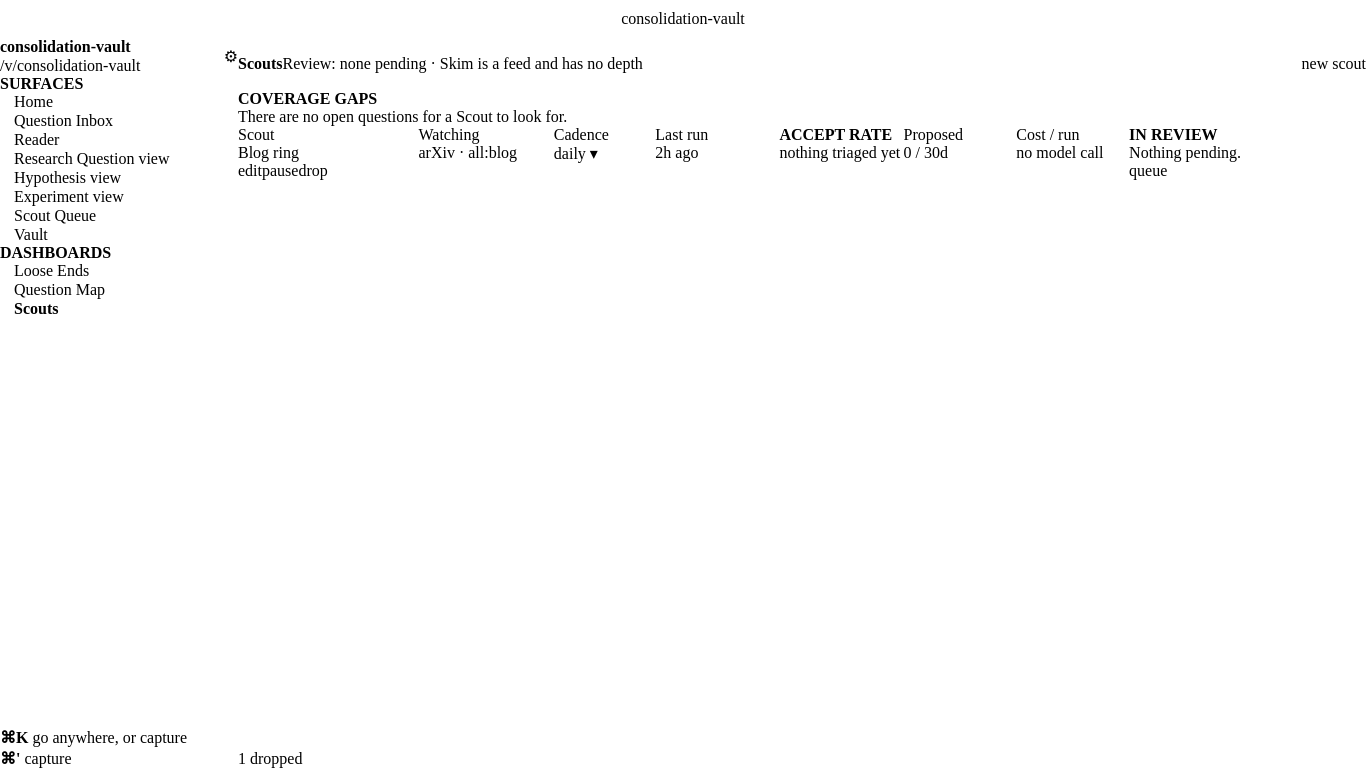
it: Scouts screen — erase › asks first, says the brief is lost, and asks the core nothing until it is confirmed
Expected: the table named "Scouts" is shown, [238,126,1365,180]
Click the button "1 dropped". click: {"x": 270, "y": 759}
box: [238,750,302,767]
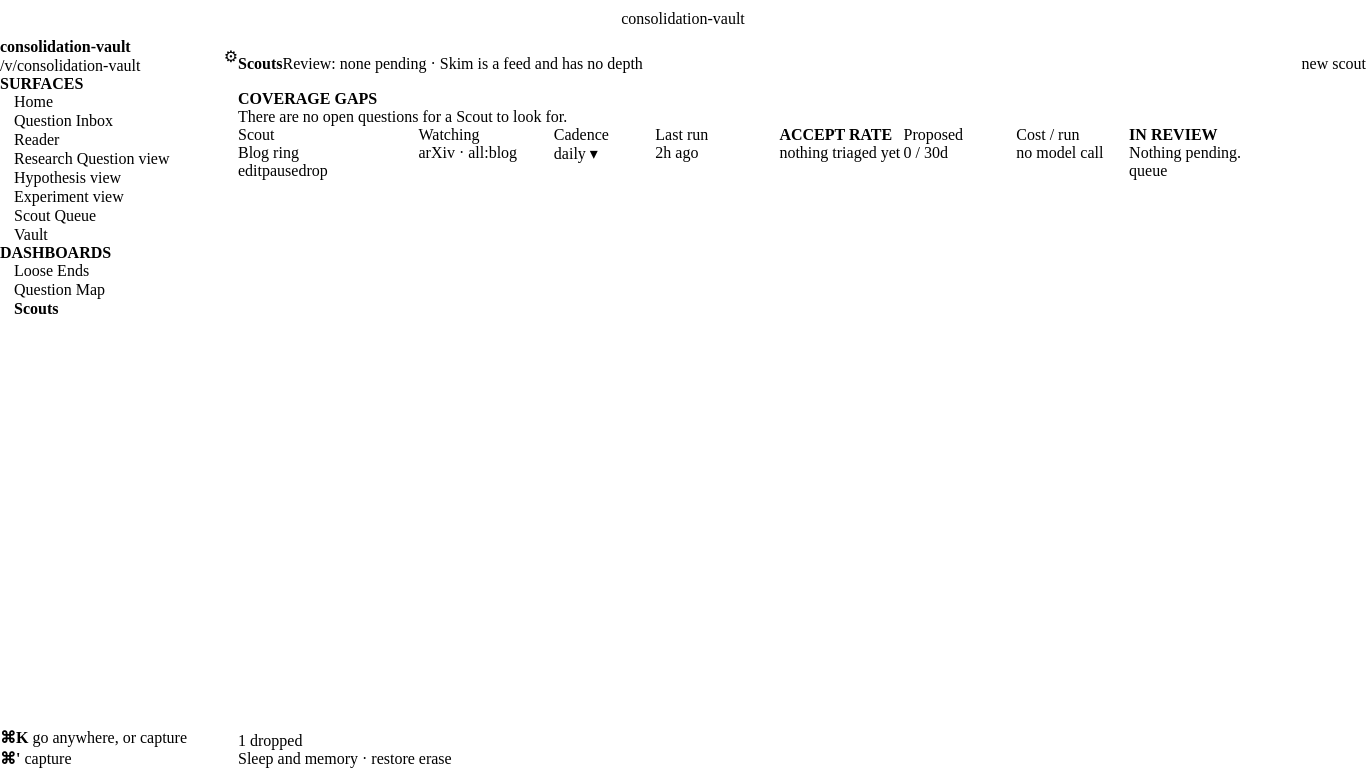
Click the button with aria-label "Sleep and memory: erase". click: {"x": 435, "y": 759}
box: [419,750,452,767]
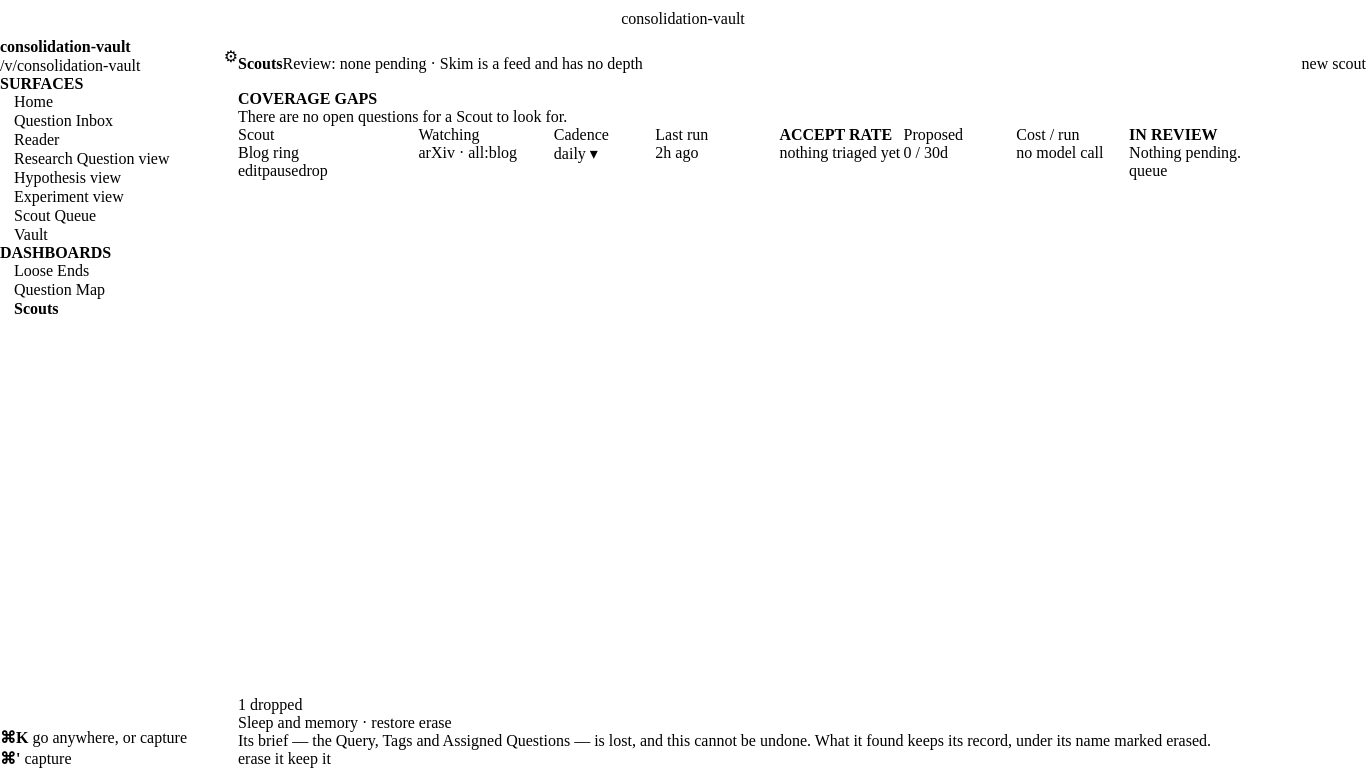
Expected: the dialog named "Erase Sleep and memory?" shows "Its brief — the Query, Tags and Assigned Questions — is lost", [238,732,1211,749]
Expected: the dialog named "Erase Sleep and memory?" shows "cannot be undone", [238,732,1211,749]
